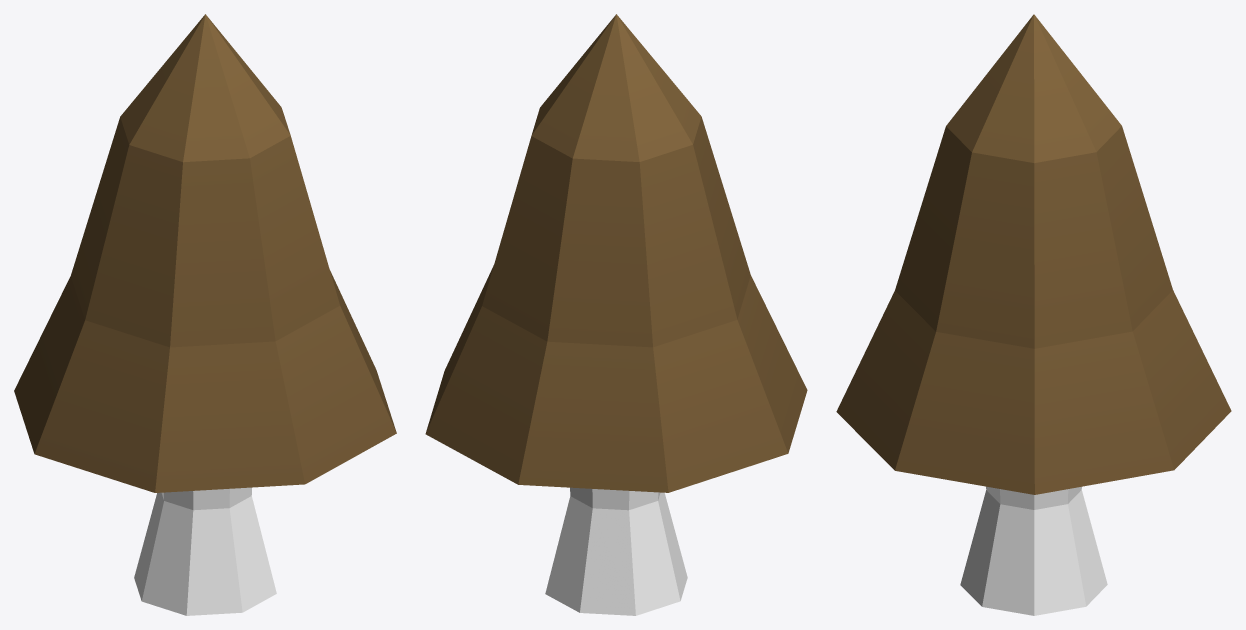
Rendered from Mushroom_03.fbx.
The picture shows the model from 3 angles, left to right: view 1: azimuth 30°, elevation 25°; view 2: azimuth 150°, elevation 25°; view 3: azimuth 270°, elevation 25°; orthographic projection.
Visible parts, largest first — view 1: Mushroom_03; view 2: Mushroom_03; view 3: Mushroom_03.
Part boxes in pixels (left/top/right/bottom): Mushroom_03: left=14, top=14, right=396, bottom=615; Mushroom_03: left=425, top=14, right=807, bottom=615; Mushroom_03: left=836, top=14, right=1231, bottom=615.
Size of the model in its own units: 0.2465 by 0.3928 by 0.2465.
